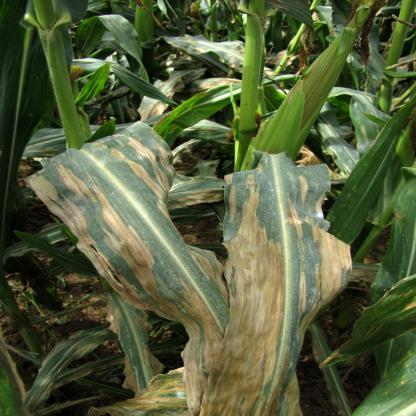Corn leaf blight: (28, 143, 218, 412), (214, 162, 339, 416)
